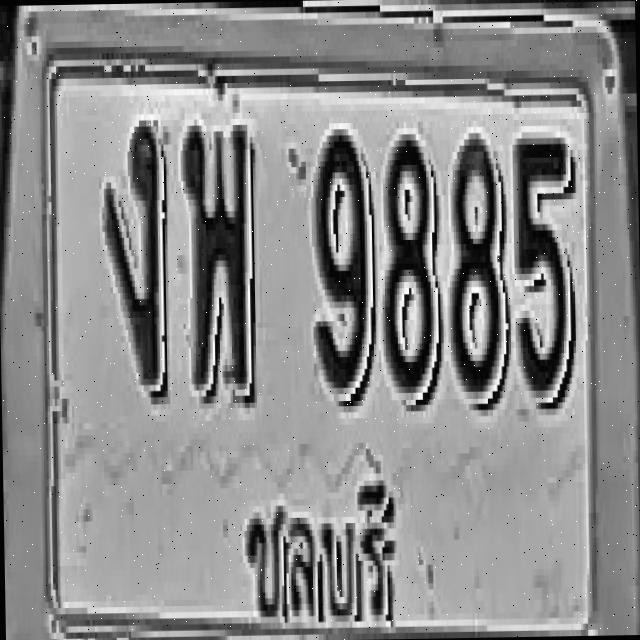16NgorNgu: (101, 116, 166, 394)
39PhorPan: (182, 119, 256, 402)
5: (512, 134, 578, 406)
8: (379, 130, 439, 402), (446, 132, 506, 398)
9: (311, 128, 373, 400)
Chonburi: (228, 459, 399, 640)
